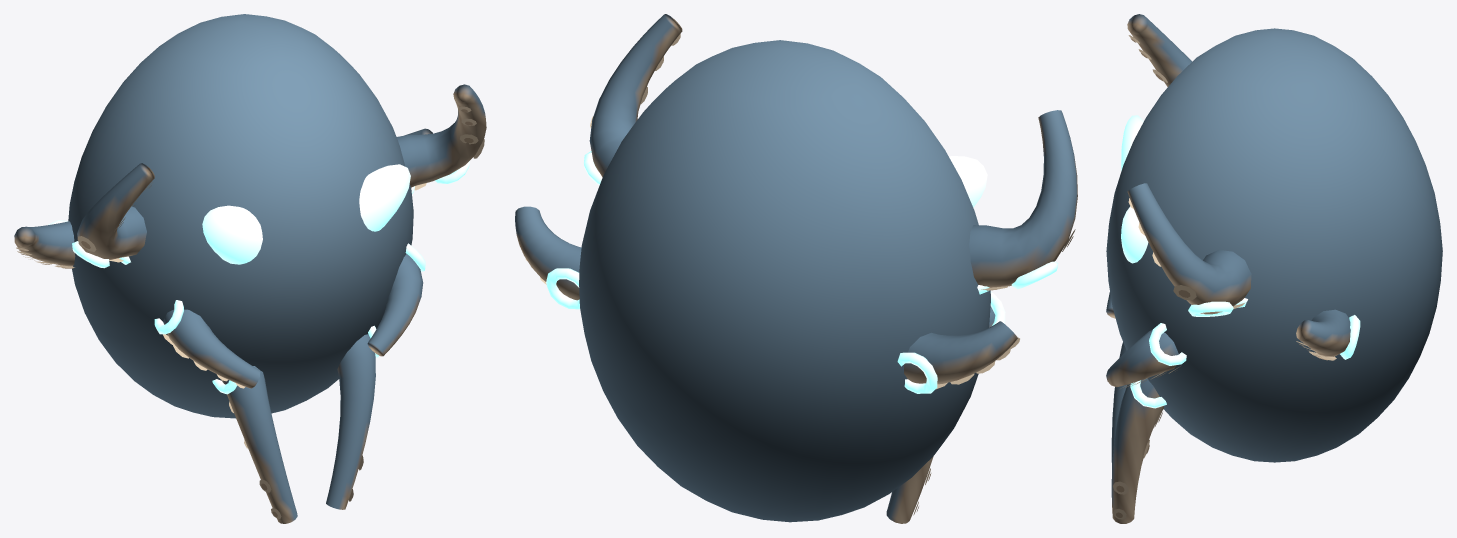
Rendered from octobuddy.glb.
The picture shows the model from 3 angles, left to right: view 1: azimuth 30°, elevation 25°; view 2: azimuth 150°, elevation 25°; view 3: azimuth 270°, elevation 25°; orthographic projection. The views are drawn at different scales.
Visible parts, largest first — view 1: OctoBuddy; view 2: OctoBuddy; view 3: OctoBuddy.
Boxes of the visible parts, x1,y1,x2,y2 form: OctoBuddy: (14, 14, 486, 523); OctoBuddy: (515, 14, 1077, 523); OctoBuddy: (1106, 14, 1442, 523).
Bounding box in the file's own units: 0.9985 × 1 × 0.6514.
